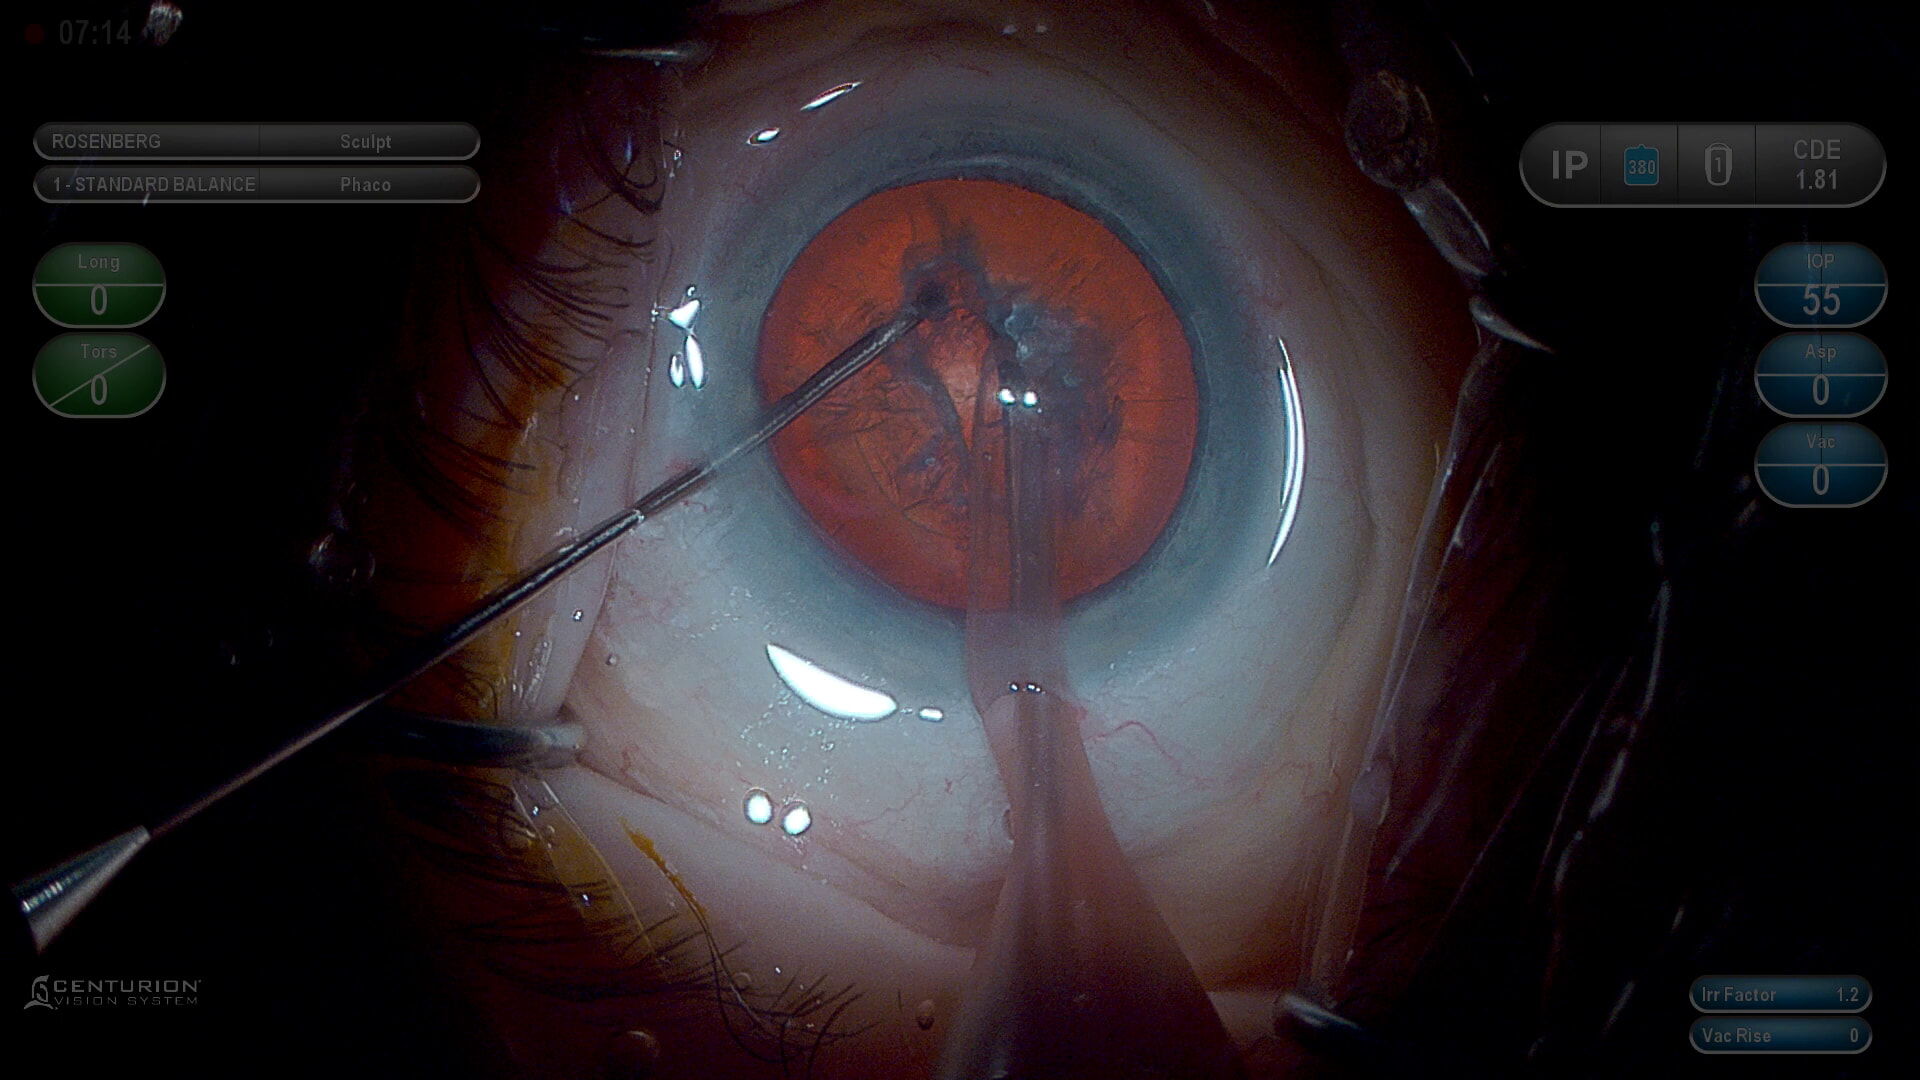iris: (708, 111, 1259, 687)
pupil: (760, 180, 1203, 612)
